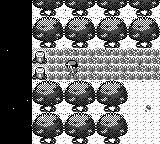captura: (48, 49, 159, 82)
main: (65, 61, 78, 73)
no-caminable: (32, 1, 159, 48), (33, 81, 128, 143), (0, 1, 32, 144), (32, 50, 47, 81)
